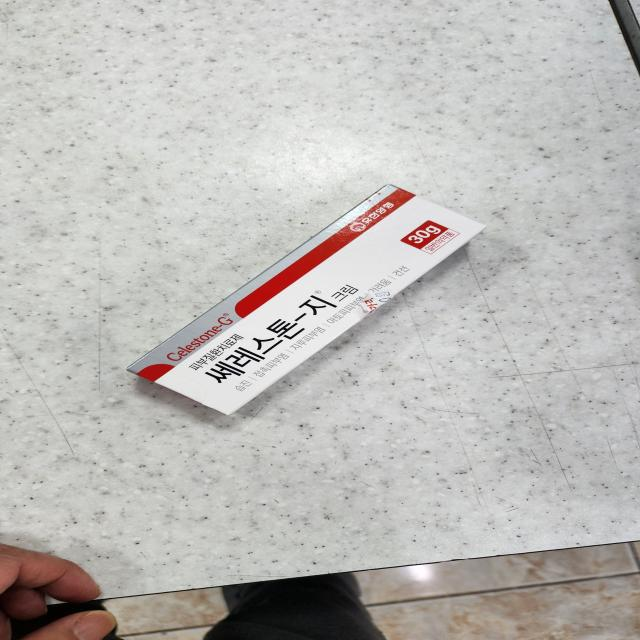box: (128, 185, 484, 414)
